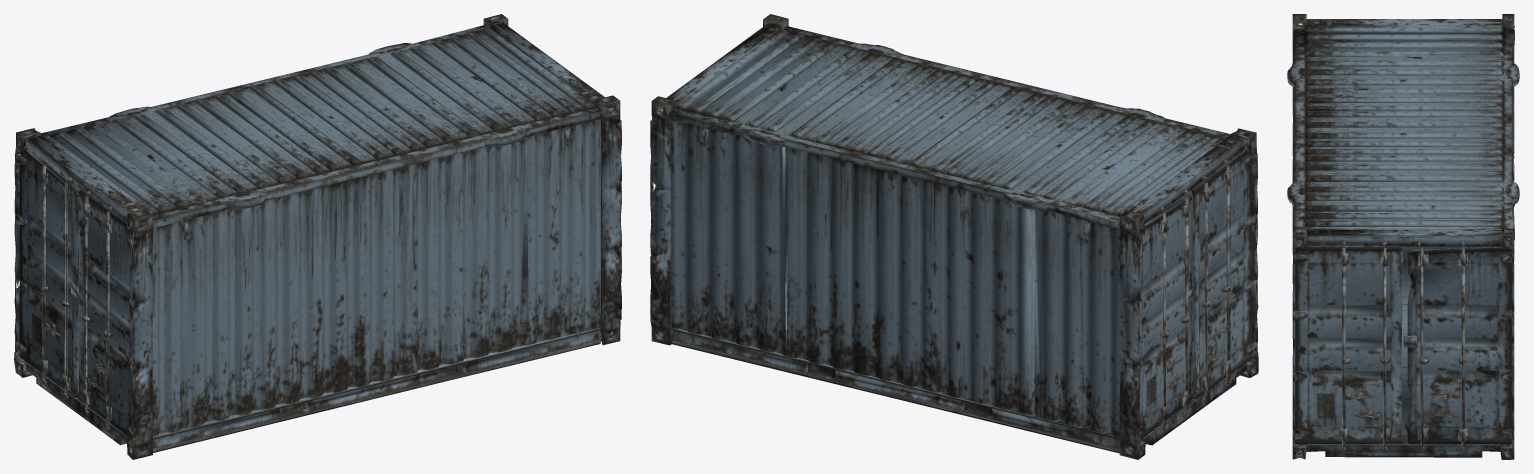
Rendered from road_container.glb.
3 views of the same model, side by side, from view 1: azimuth 30°, elevation 25°; view 2: azimuth 150°, elevation 25°; view 3: azimuth 270°, elevation 25° (orthographic). The views are drawn at different scales.
Size of the model in its own units: 0.9585 by 0.4448 by 0.4165.
Materials: 1 (1 with a texture image).
